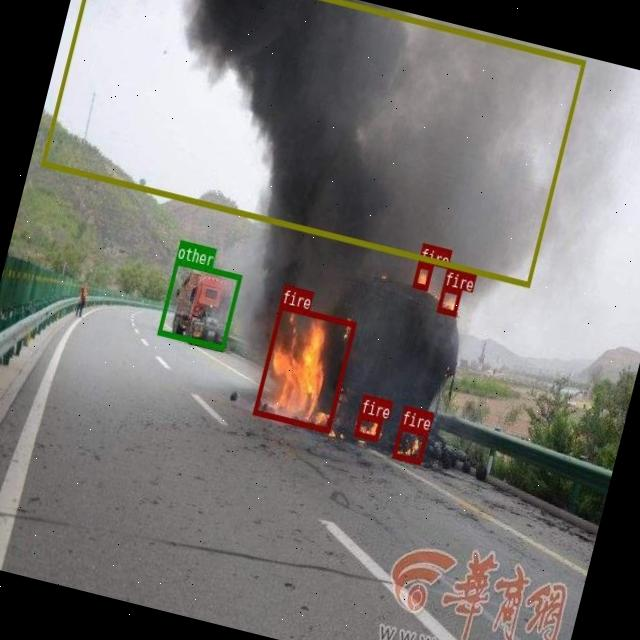fire: (252, 302, 356, 432), (392, 424, 428, 464), (353, 412, 382, 440), (436, 284, 461, 314), (411, 261, 433, 289)
smoke: (40, 0, 585, 286)
